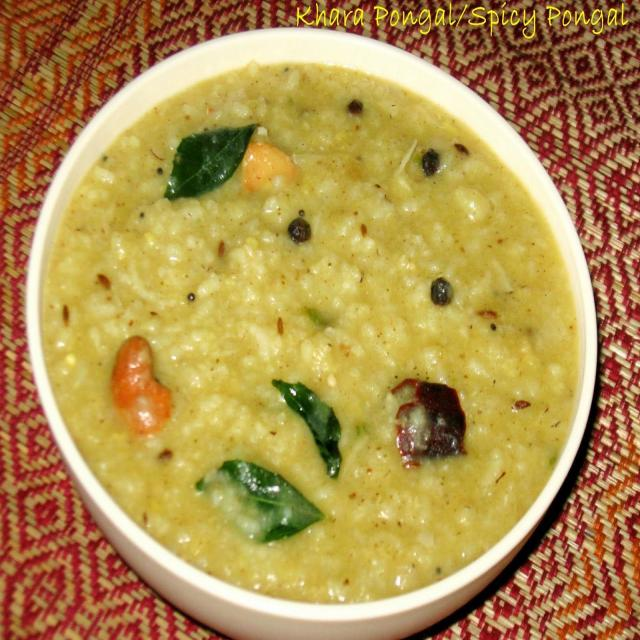khara pongal: (28, 46, 590, 616)
